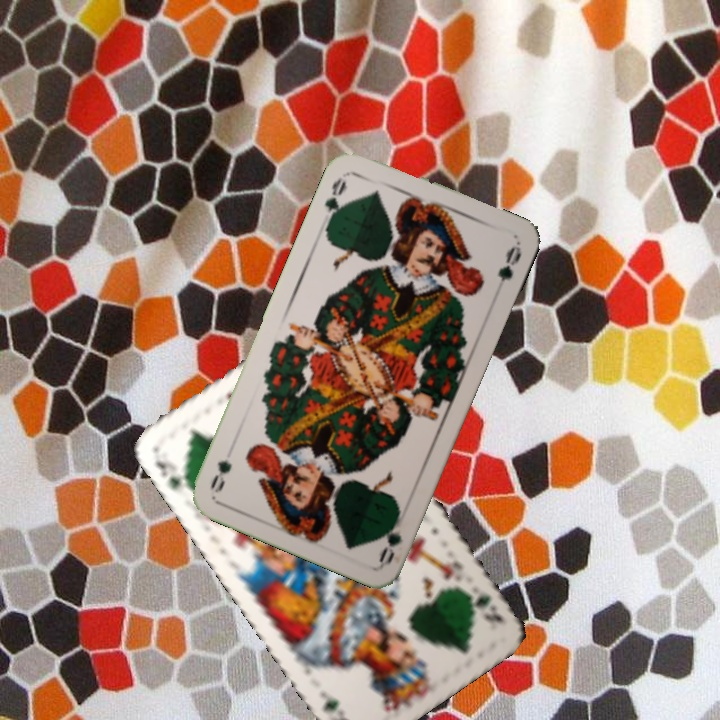GK: (149, 449, 194, 498), (460, 584, 506, 625)
GO: (375, 506, 405, 567), (320, 173, 350, 226)
